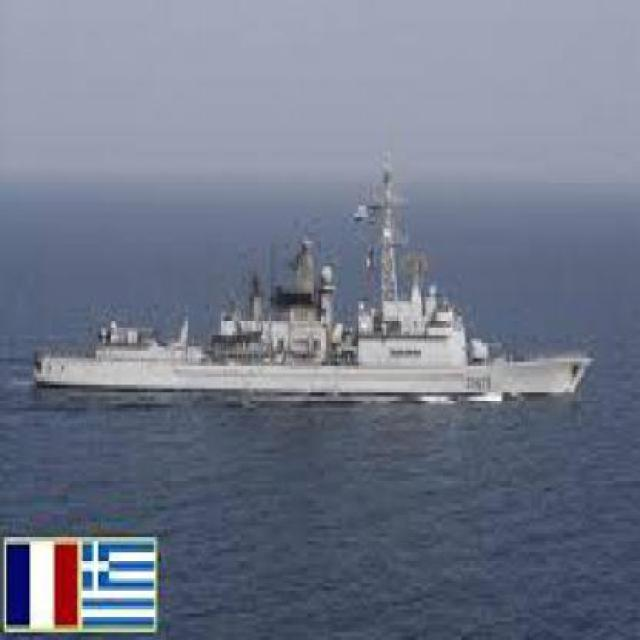warship2: (31, 164, 614, 424)
